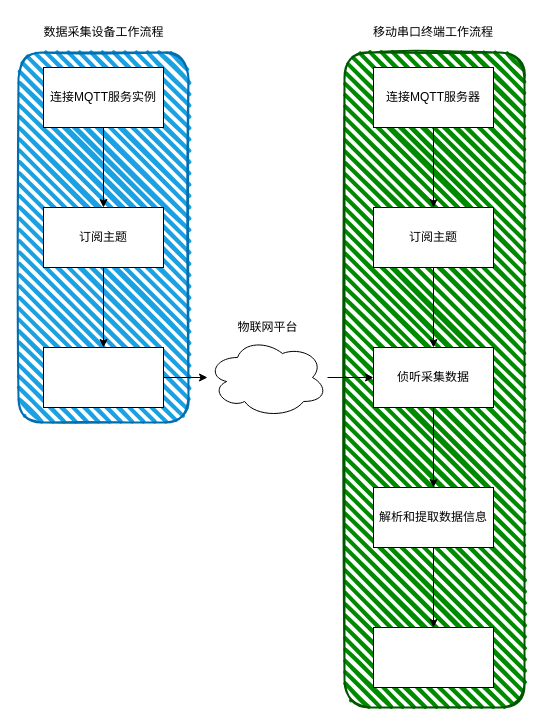
This 542x725 diagram has some shape labels left out. The centre of each missing label's shape, as x and y in pixels:
发送采集数据: point (103, 377)
缓存更新显示波形: point (433, 657)
转发数据: point (267, 377)
